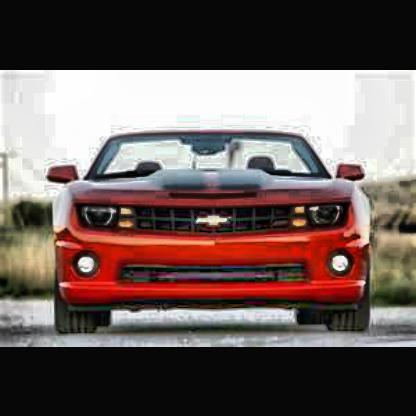Chevrolet Camaro Convertible 2012: (44, 127, 378, 332)
